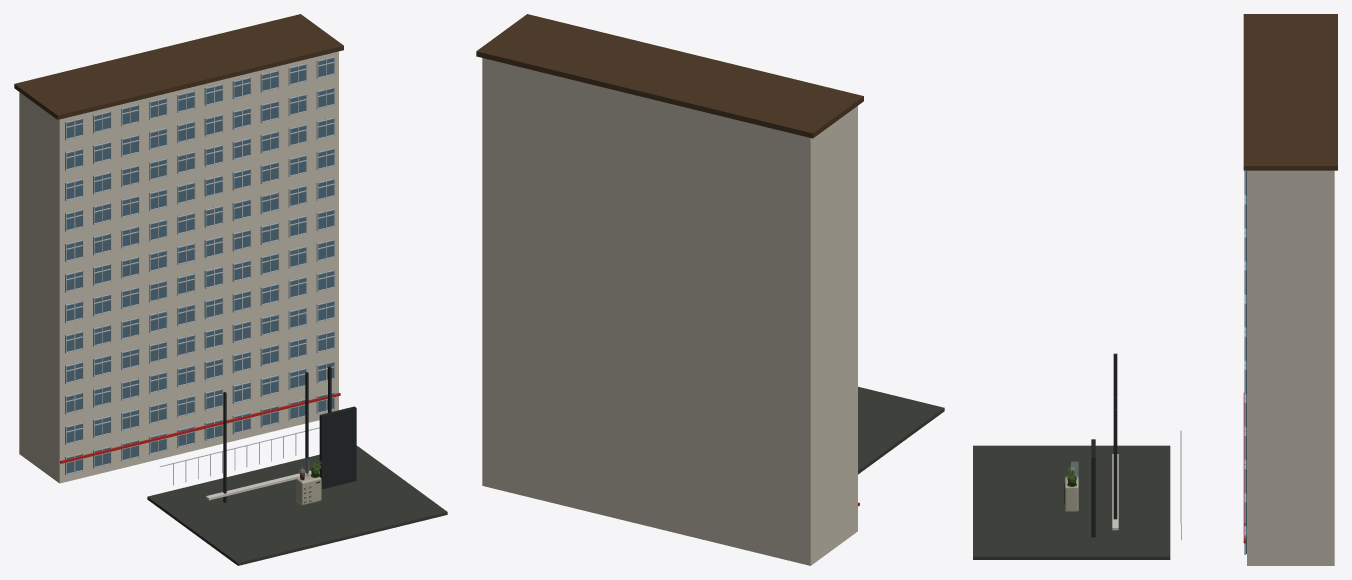
Rendered from scene-0-scenerig.glb.
3 views of the same model, side by side, from view 1: azimuth 30°, elevation 25°; view 2: azimuth 150°, elevation 25°; view 3: azimuth 270°, elevation 25° (orthographic). The views are drawn at different scales.
Visible parts, largest first — view 1: Building masonry, Interior floor, Projecting roof edge, Dark right wall, Shopfront red stripe, Power bank rental station, Window sill; view 2: Building masonry, Projecting roof edge, Interior floor; view 3: Building masonry, Interior floor, Projecting roof edge, Window vertical frame.002, Dark right wall.
Part boxes in pixels (x1,y1,x2,y2): Building masonry: (19,51,338,483); Interior floor: (147,446,447,565); Projecting roof edge: (14,14,343,119); Dark right wall: (319,406,356,489); Shopfront red stripe: (60,393,340,463); Power bank rental station: (296,474,321,505); Window sill: (206,470,319,500); Building masonry: (482,58,857,565); Projecting roof edge: (476,14,863,138); Interior floor: (858,386,944,474); Building masonry: (1247,170,1334,565); Interior floor: (973,445,1170,559); Projecting roof edge: (1243,14,1337,170); Window vertical frame.002: (1113,409,1117,519); Dark right wall: (1091,439,1095,537).
Size of the model in its own units: 16.4 by 20.4 by 16.65.
